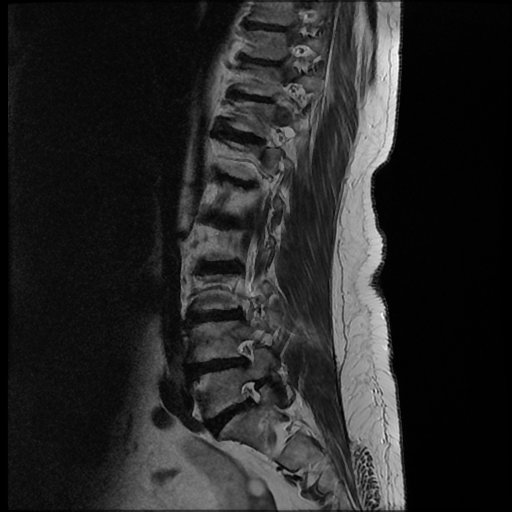RFS0: (227, 330, 262, 376), (234, 374, 271, 414)
